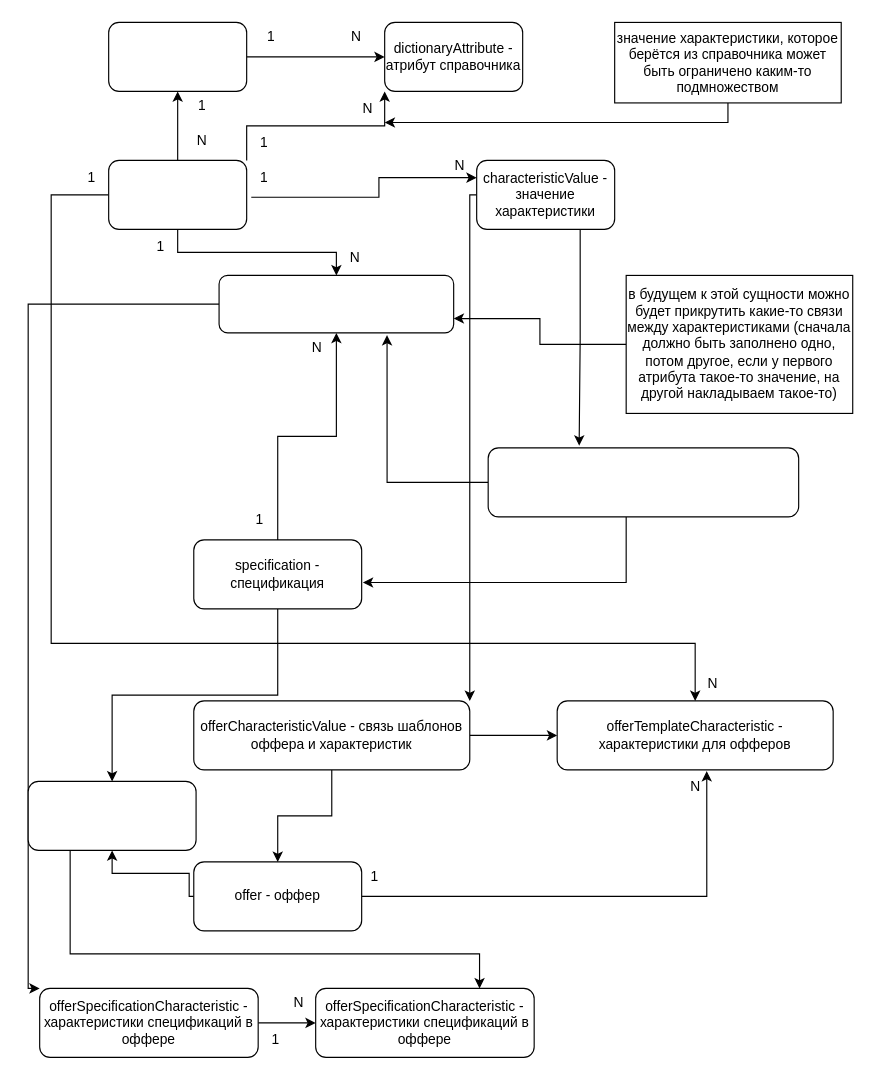
The diagram is 873 pixels wide and 1078 high, and some of its shapes have lost their labels. Here are the shapes that lost their labels. From the top down, the box of each, then its label:
(108, 21, 247, 91): dictionary - справочник
(108, 159, 247, 229): characteristic - характеристика
(218, 274, 454, 333): specificationCharacteristic - характеристики для спецификаций
(487, 447, 799, 517): specificationCharacteristicValue - значения характеристик для спецификации
(27, 780, 196, 850): offerSpecification - спецификации в оффере
